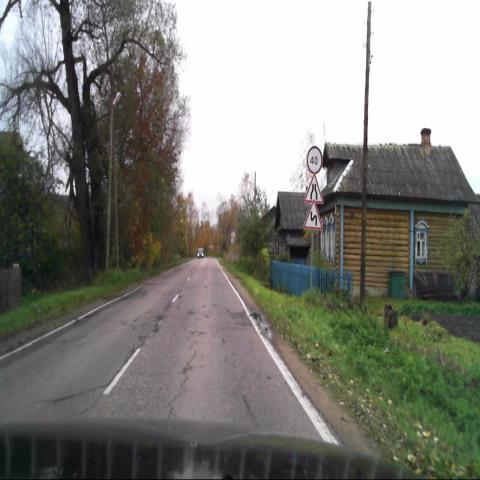1_12_2: (304, 201, 322, 229)
1_20: (304, 175, 323, 204)
